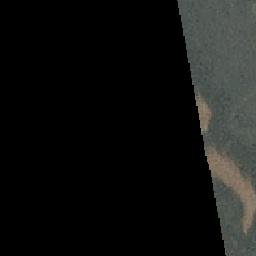debris: (225, 146, 254, 234), (213, 138, 224, 185), (201, 97, 215, 132)
